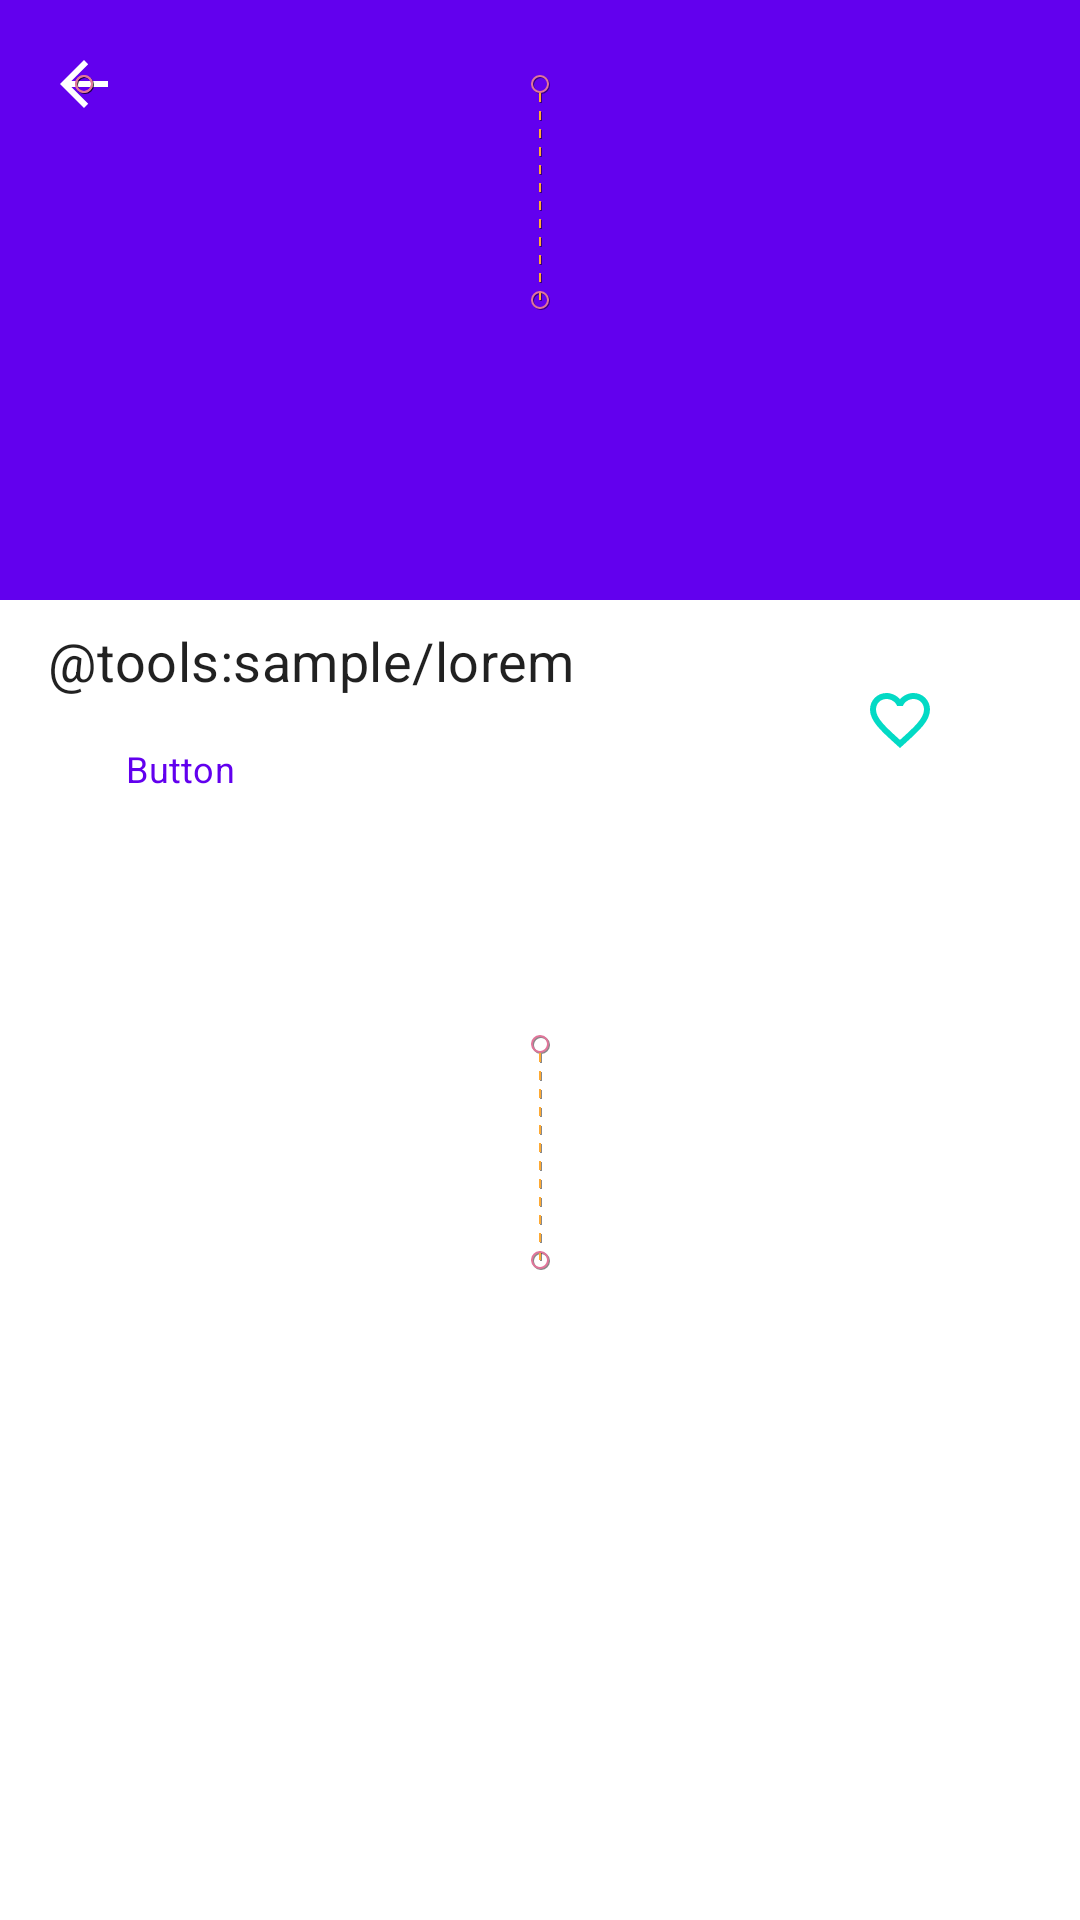

Screen size 1080w x 1920h. Icon name, then its center in pixels as (x=x, y=y):
ab back: (x=84, y=84)
favorit: (x=900, y=720)
